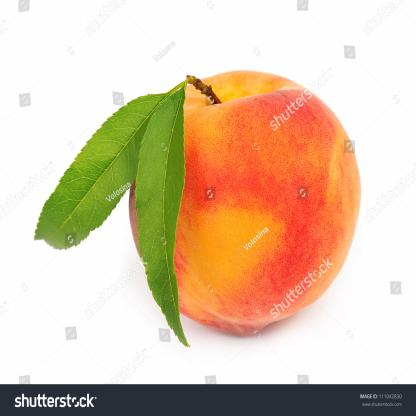peach leaf: (34, 94, 161, 255), (132, 81, 196, 352)
